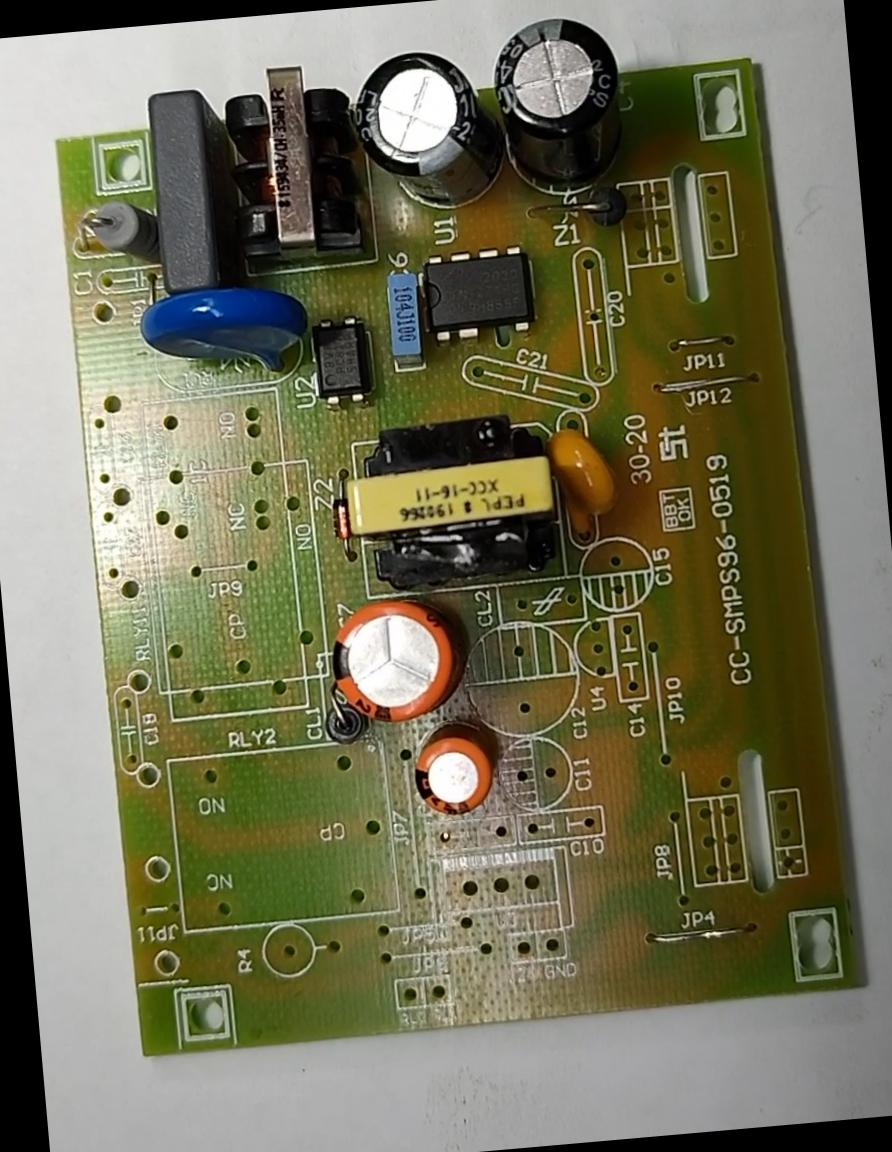Cap1: (318, 596, 465, 738)
Cap2: (403, 726, 502, 825)
Cap3: (343, 43, 504, 220)
Cap4: (480, 7, 633, 196)
MOSFET: (420, 240, 538, 344)
Mov: (135, 278, 309, 386)
Resistor: (78, 194, 160, 268)
Transformer: (332, 403, 568, 597), (213, 59, 365, 268)
